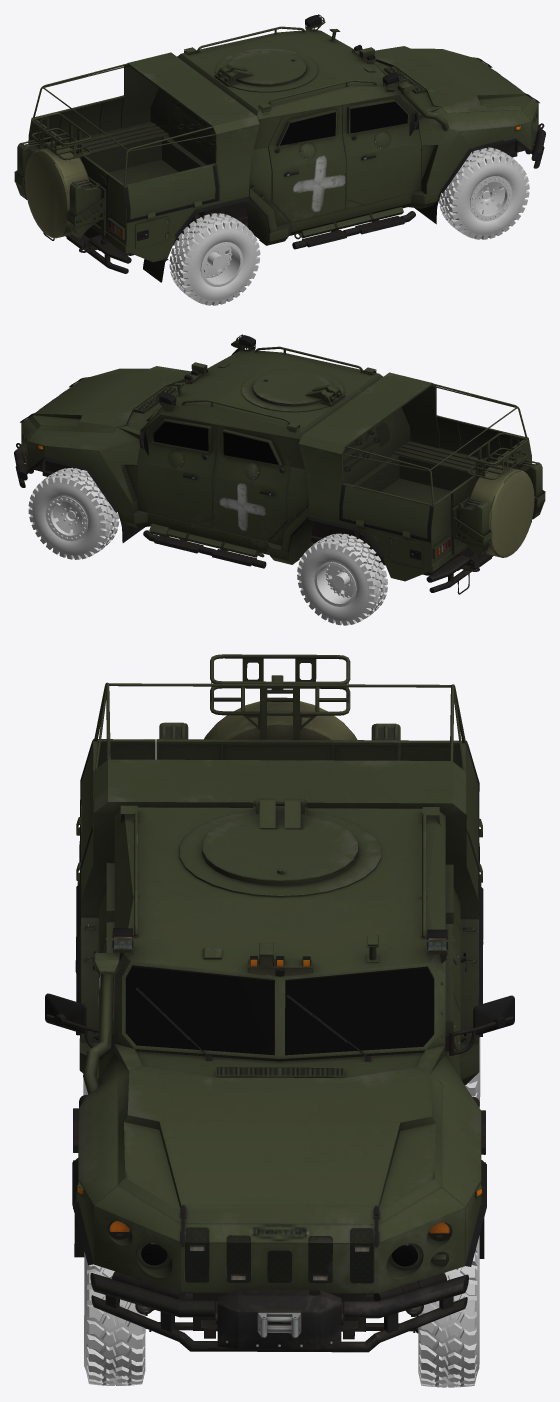
The model's file is comnovator.fbx.
The picture shows the model from 3 angles, top to bottom: view 1: azimuth 30°, elevation 25°; view 2: azimuth 150°, elevation 25°; view 3: azimuth 270°, elevation 25°; orthographic projection. The views are drawn at different scales.
Visible parts, largest first — view 1: chassis, roue_03, roue_droite_01, window; view 2: chassis, roue_04, roue_gauche_01, window; view 3: chassis, window, roue_gauche_01, roue_droite_01.
Part boxes in pixels (x1,y1,x2,y2): chassis: (14,14,545,282); roue_03: (169,213,260,305); roue_droite_01: (439,147,529,239); window: (280,101,407,145); chassis: (14,334,545,594); roue_04: (297,533,387,625); roue_gauche_01: (28,467,119,559); window: (154,421,278,464); chassis: (45,654,514,1352); window: (125,967,433,1266); roue_gauche_01: (418,1235,479,1387); roue_droite_01: (84,1252,145,1385).
Size of the model in its own units: 7.17 by 2.98 by 2.62.
